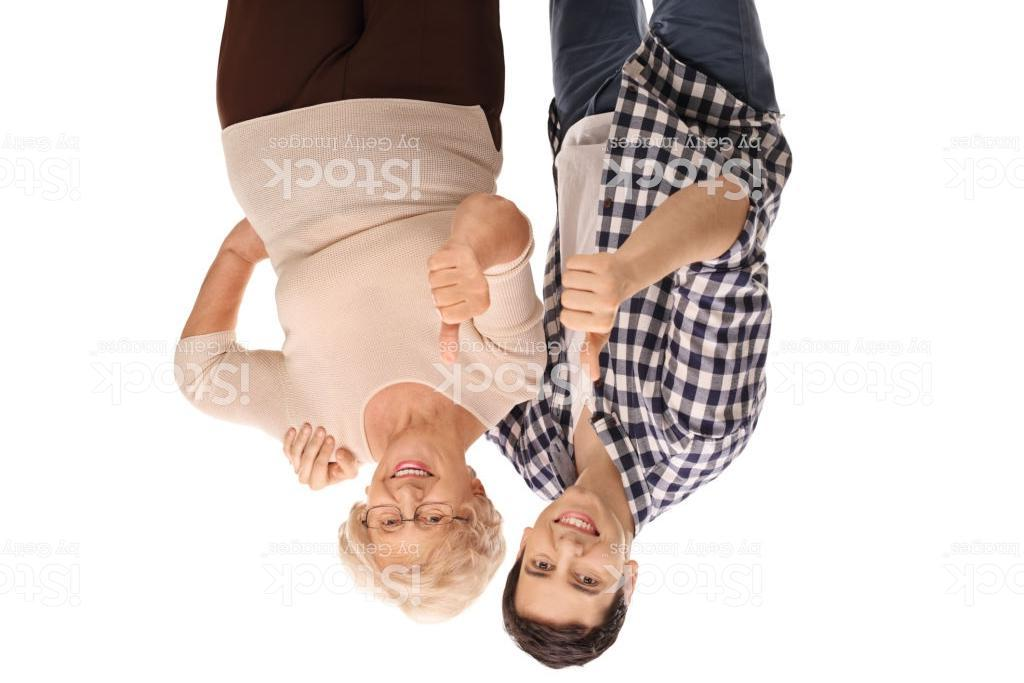thumbsdown: (556, 247, 623, 383), (426, 239, 496, 364)
